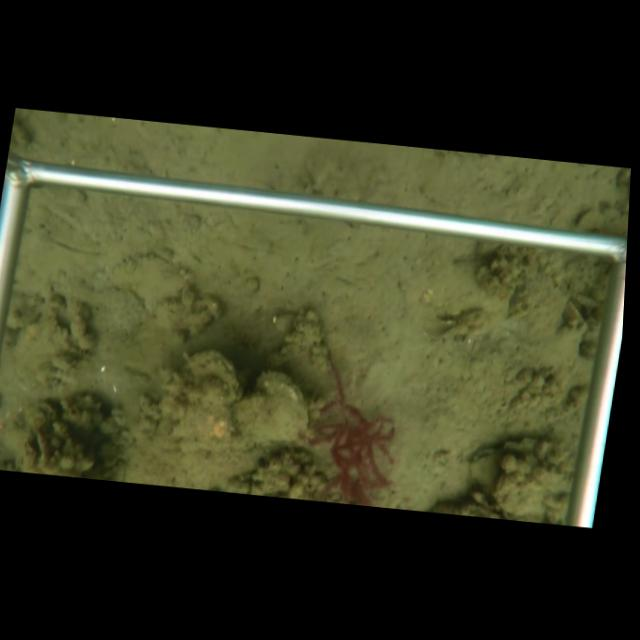Oyster-Indeterminate: (148, 348, 241, 453), (227, 369, 311, 446)
Oyster-Open: (465, 444, 502, 498)
